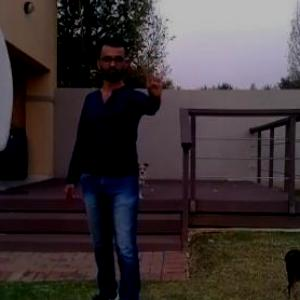takeoff-hand: (144, 62, 172, 97)
